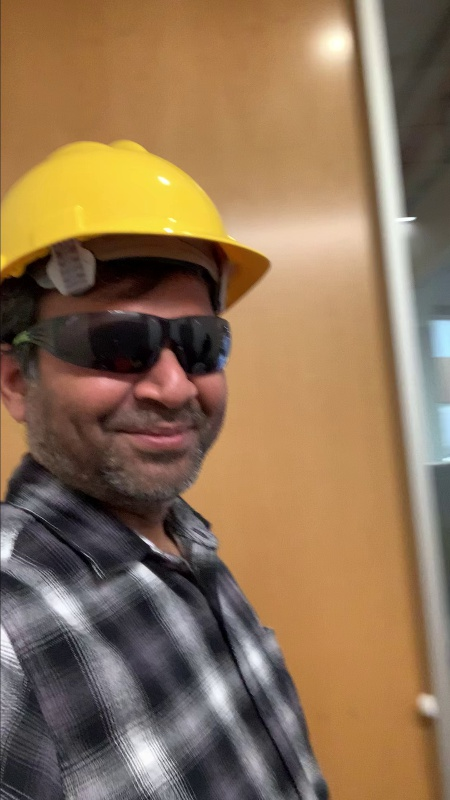glasses: (47, 307, 236, 376)
helmet: (3, 130, 267, 266)
